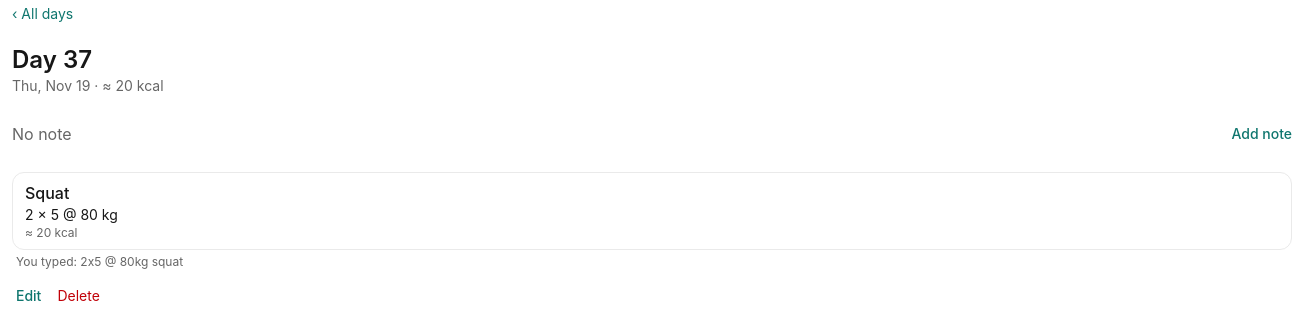
Test: Day › deletes an entry after confirming, then reloads
The width and height of the screenshot is (1304, 336).
Click the button "Delete" at (79, 296), box [53,274,104,318]
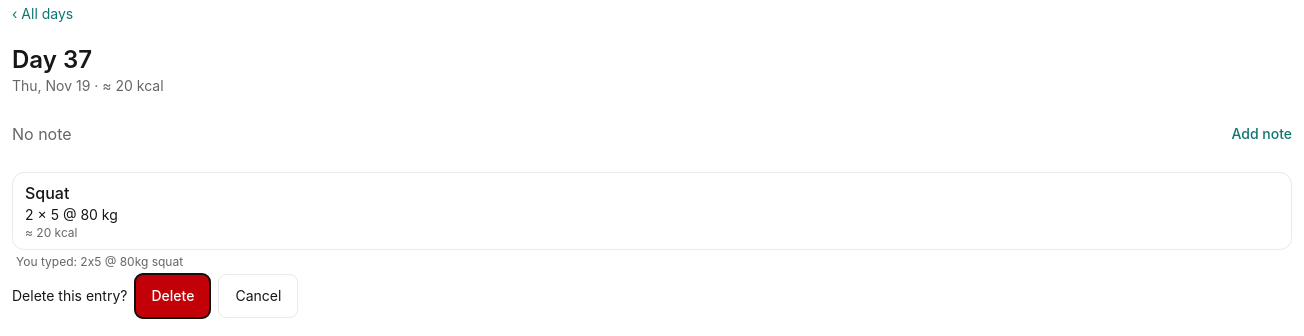
Expected: the text "Delete this entry?" is shown, [12,286,128,306]
Click the button "Delete" at (173, 296), box [136,274,210,318]
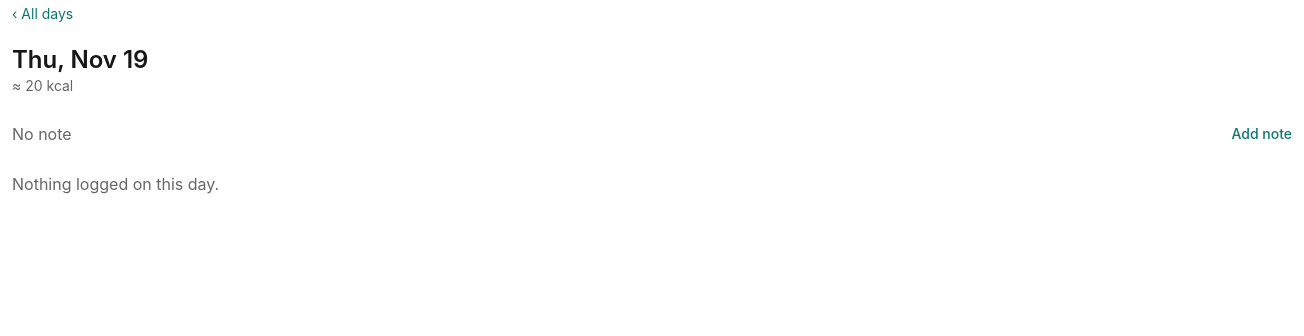
Expected: the text "Nothing logged on this day." is shown, [12,174,219,194]
